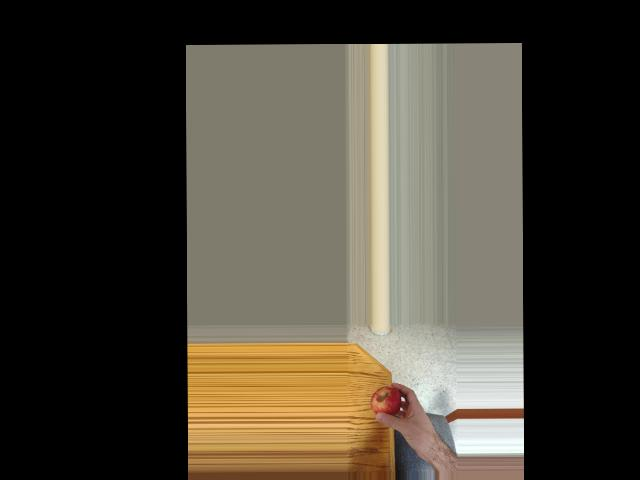apple: (371, 383, 402, 421)
